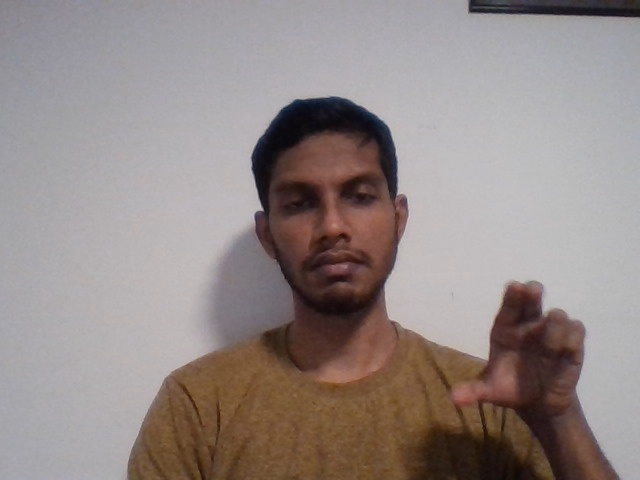no: (429, 270, 608, 430)
